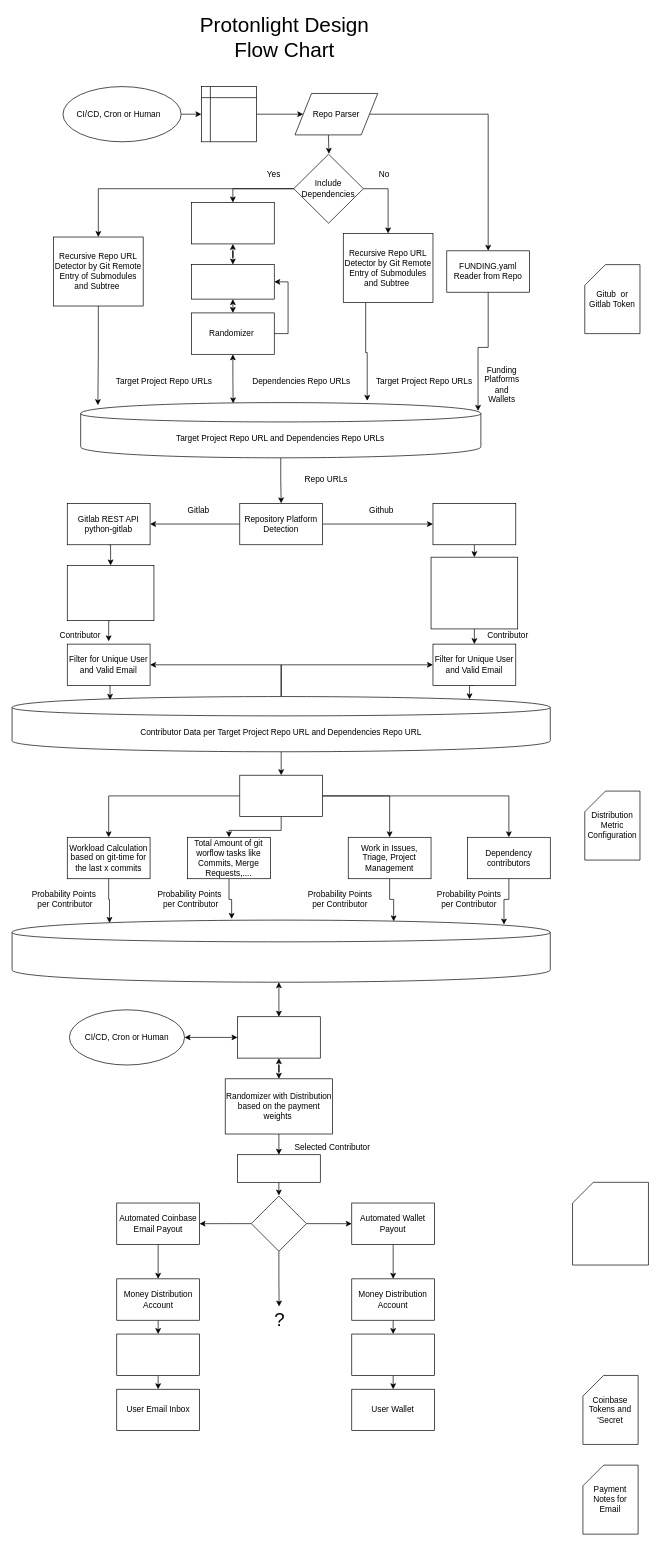
Some shapes in this 661 by 1546 pixel diagram are drawn without their labels. The box of each missing label's shape, as (x1, y1, x2, y2) in pixels:
Coinbase Email Outbox: (116, 1333, 200, 1375)
Coinbase Wallet: (351, 1333, 435, 1375)
Contributor Meta Data Collector: (430, 556, 518, 629)
Credit Per User Calculation: (237, 1154, 320, 1182)
Distribution Metric Configurator: (239, 775, 323, 817)
Gathering of Contributor Data like Randomizer Weights, Location and Email: (67, 565, 154, 621)
Github REST API pygithub: (432, 503, 516, 545)
Libraries.io API for Dependency Tree Gathering: (191, 264, 274, 299)
Local Git Folder: (201, 86, 257, 142)
Manifestor Parser (bibliothecary): (191, 202, 274, 244)
P robability D istribution per Contributor: (11, 919, 550, 982)
Payment Configuration (FUNDING.yaml): (572, 1182, 648, 1265)
Payment Methode: (251, 1195, 306, 1251)
Payout: (237, 1016, 320, 1058)
